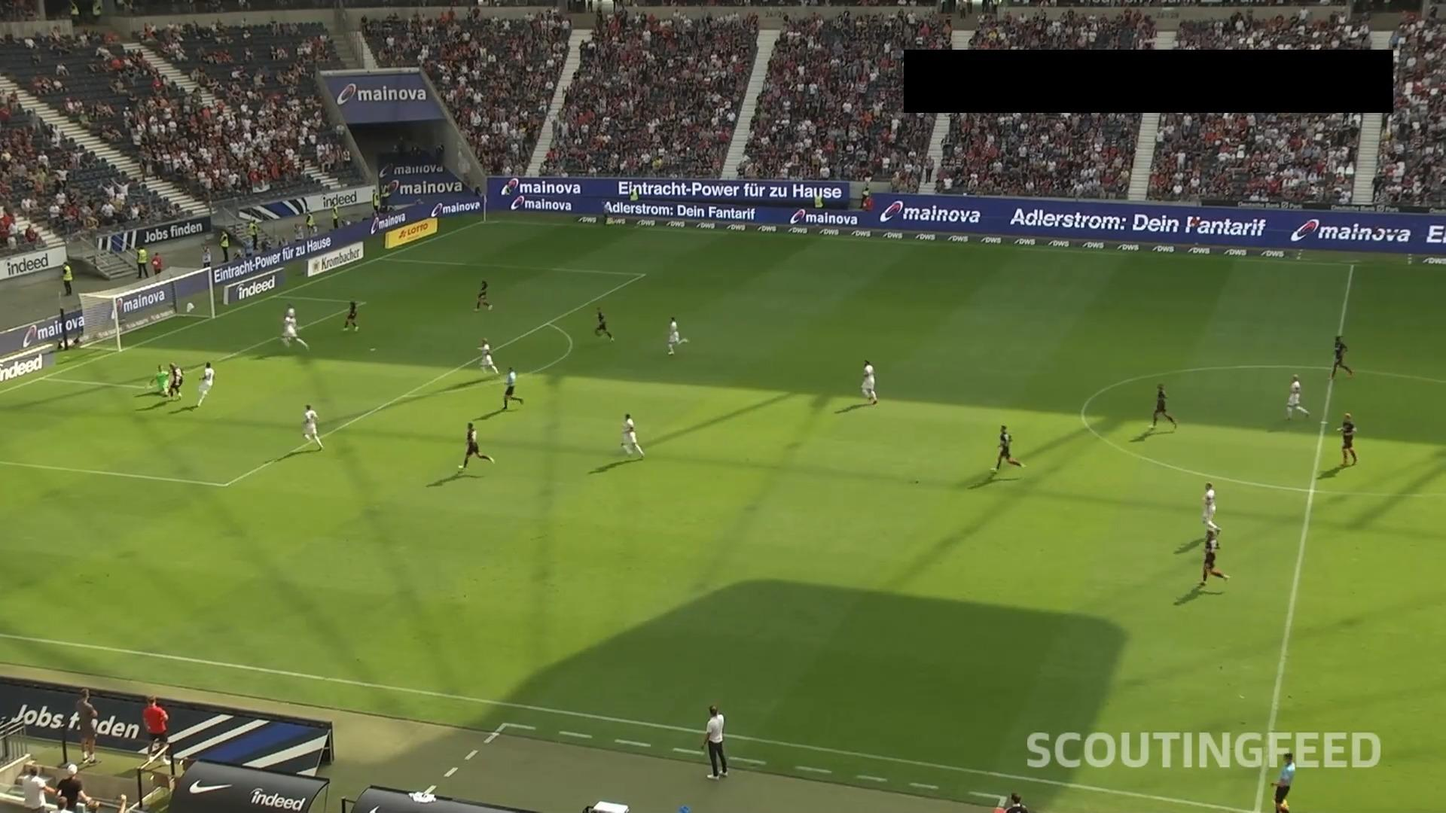goalkeeper: (148, 363, 173, 408)
player: (1193, 525, 1231, 590), (456, 419, 497, 476), (991, 420, 1027, 477), (1332, 410, 1363, 467), (1149, 381, 1179, 435), (1282, 372, 1312, 422), (1197, 480, 1222, 539), (194, 354, 218, 411), (1330, 331, 1354, 382), (621, 410, 645, 461), (303, 402, 327, 453), (476, 336, 503, 378), (280, 316, 309, 352), (664, 312, 687, 357), (857, 358, 878, 406), (340, 297, 365, 333), (473, 274, 496, 313), (592, 304, 615, 343), (166, 360, 185, 400), (285, 303, 301, 340)
referee: (1270, 752, 1298, 813), (500, 364, 526, 411), (601, 201, 614, 227)
